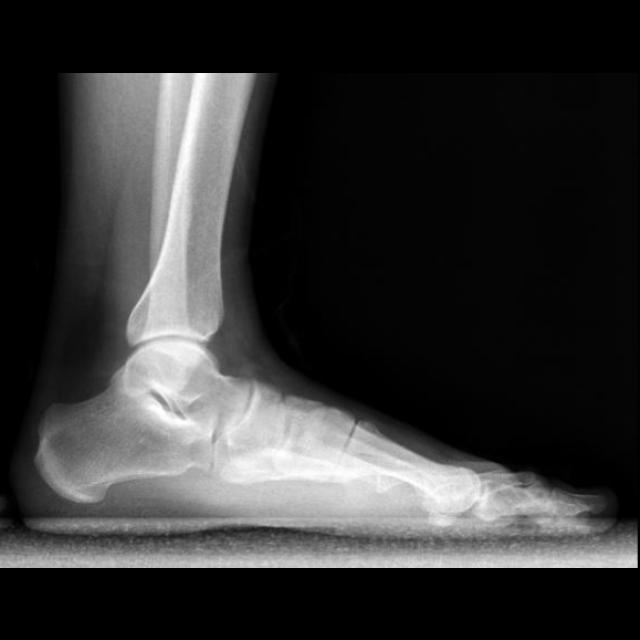a: (34, 379, 216, 503)
b: (223, 380, 282, 451)
c: (331, 419, 481, 507)
